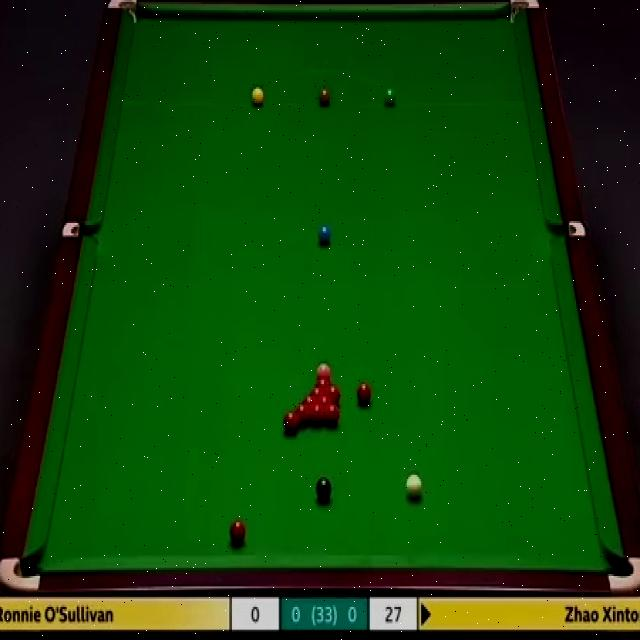black-ball: (314, 477, 334, 500)
blue-ball: (316, 226, 333, 247)
brown-ball: (318, 88, 330, 107)
green-ball: (382, 86, 397, 108)
pink-ball: (319, 361, 334, 375)
red-ball: (228, 520, 246, 547), (355, 380, 373, 406), (283, 411, 300, 436), (309, 401, 325, 427), (326, 404, 340, 427), (322, 372, 336, 394), (294, 405, 310, 424), (326, 386, 341, 405), (309, 387, 325, 398)
white-ball: (406, 471, 422, 501)
yellow-ball: (250, 86, 264, 107)
